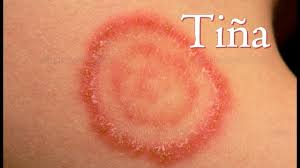tina: (74, 19, 244, 160)
